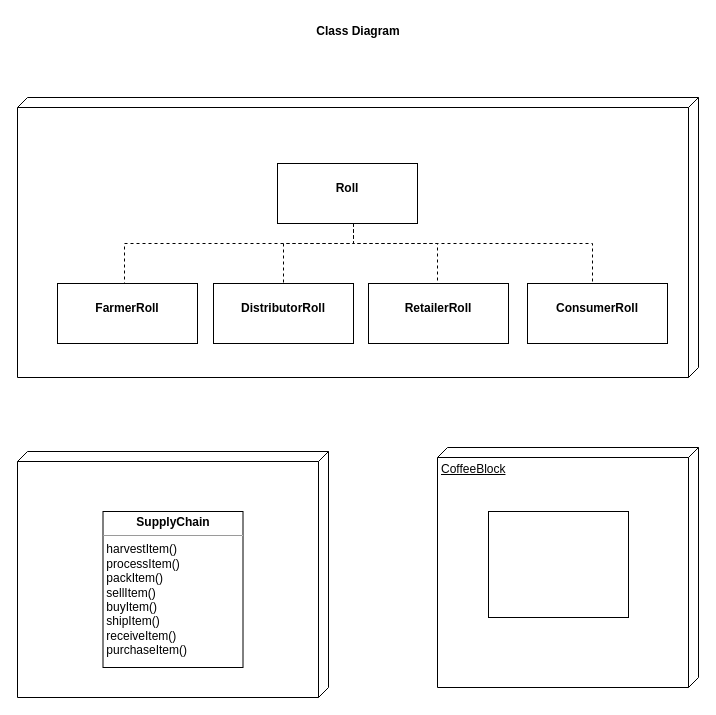
Some shapes in this 716 by 715 pixel diagram are drawn without their labels. Each missing label, with the box of its shape:
CoffeeAccessControl: (16, 96, 698, 378)
CoffeeBase: (16, 450, 328, 698)
Ownable owner() isOwner() onlyOwner() renounceOwnership() transferOwnership(): (488, 510, 628, 618)
